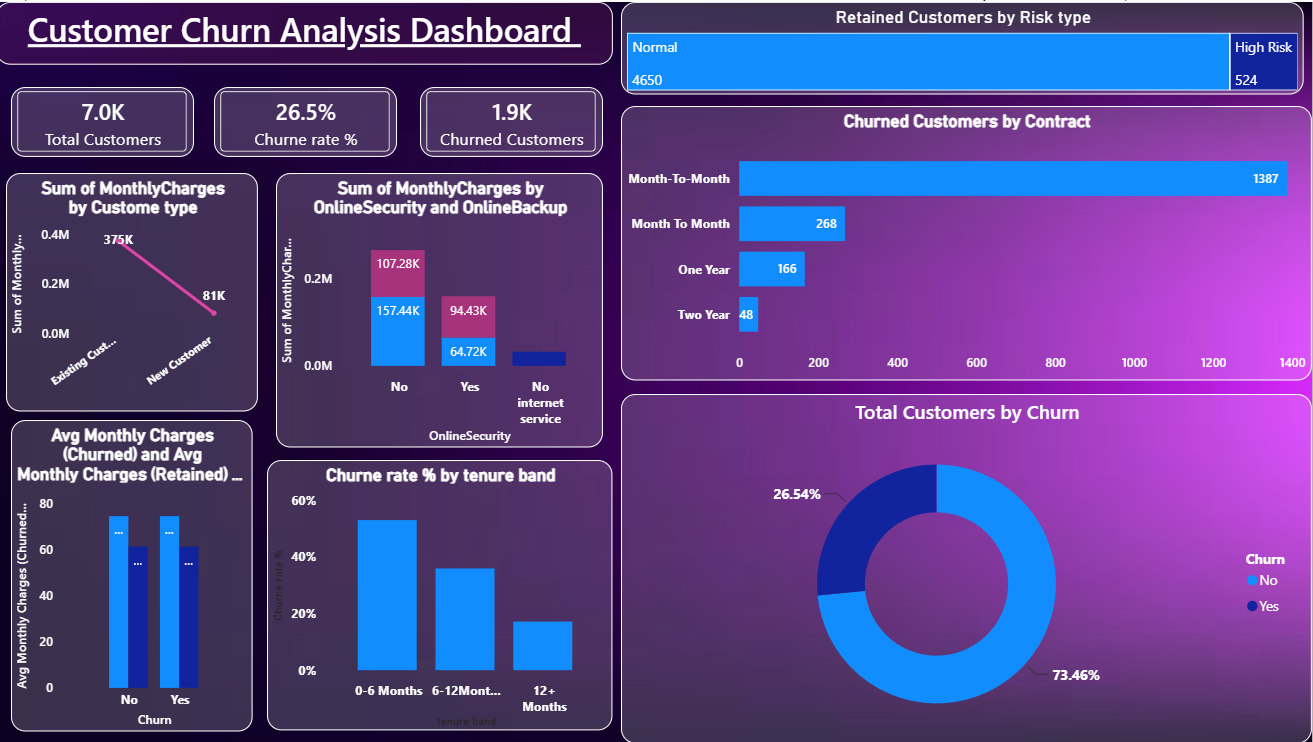

The page's visual inventory and layout, read from the dashboard file:
{"tool":"powerbi","page":{"name":"Summary Dashboard ","canvas":[1280,720],"ordinal":0},"visuals":[{"type":"textbox","box":[0,0,599.8,61.4],"z":0},{"type":"treemap","fields":{"Values":["Calculated Measures.Retained Customers"],"Group":["telco_churn_unclean.Risk type"]},"box":[608.3,0,664.3,89.9],"z":1000},{"type":"cardVisual","fields":{"Data":["Calculated Measures.Total Customers"]},"box":[14.8,82.5,177.7,67.7],"z":2000},{"type":"cardVisual","fields":{"Data":["Calculated Measures.Churne rate %"]},"box":[211.6,82.5,177.7,67.7],"z":3000},{"type":"cardVisual","fields":{"Data":["Calculated Measures.Churned Customers"]},"box":[412.6,82.5,177.7,67.7],"z":4000},{"type":"donutChart","fields":{"Category":["telco_churn_unclean.Churn"],"Y":["Calculated Measures.Total Customers"]},"box":[608.3,380.8,671.7,339.6],"z":5000},{"type":"barChart","fields":{"Category":["telco_churn_unclean.Contract"],"Y":["Calculated Measures.Churned Customers"]},"box":[608.3,101.6,671.7,266.6],"z":6000},{"type":"columnChart","fields":{"Category":["telco_churn_unclean.OnlineSecurity"],"Y":["Sum(telco_churn_unclean.MonthlyCharges)"],"Series":["telco_churn_unclean.OnlineBackup"]},"box":[271.9,166.1,318.4,266.6],"z":7000},{"type":"columnChart","fields":{"Y":["Calculated Measures.Churne rate %"],"Category":["telco_churn_unclean.tenure band"]},"box":[263.4,445.4,336.4,263.4],"z":8000},{"type":"clusteredColumnChart","fields":{"Y":["Calculated Measures.Avg Monthly Charges (Churned)","Calculated Measures.Avg Monthly Charges (Retained)"],"Category":["telco_churn_unclean.Churn"]},"box":[14.8,406.2,234.8,302.5],"z":9000},{"type":"lineChart","fields":{"Category":["telco_churn_unclean.Custome type"],"Y":["Sum(telco_churn_unclean.MonthlyCharges)"]},"box":[9.5,166.1,245.4,231.7],"z":10000}]}

Visuals, with their boxes in screenshot pixels (x1, y1, x2, y2), scaled from the page's 1280x720 canvas onto the 1313x742 screenshot:
textbox: detection(0, 0, 615, 63)
treemap - Calculated Measures.Retained Customers x telco_churn_unclean.Risk type: detection(624, 0, 1305, 93)
cardVisual - Calculated Measures.Total Customers: detection(15, 85, 197, 155)
cardVisual - Calculated Measures.Churne rate %: detection(217, 85, 399, 155)
cardVisual - Calculated Measures.Churned Customers: detection(423, 85, 606, 155)
donutChart - telco_churn_unclean.Churn x Calculated Measures.Total Customers: detection(624, 392, 1312, 741)
barChart - telco_churn_unclean.Contract x Calculated Measures.Churned Customers: detection(624, 105, 1312, 379)
columnChart - telco_churn_unclean.OnlineSecurity x Sum(telco_churn_unclean.MonthlyCharges): detection(279, 171, 606, 446)
columnChart - Calculated Measures.Churne rate % x telco_churn_unclean.tenure band: detection(270, 459, 615, 730)
clusteredColumnChart - Calculated Measures.Avg Monthly Charges (Churned) x Calculated Measures.Avg Monthly Charges (Retained): detection(15, 419, 256, 730)
lineChart - telco_churn_unclean.Custome type x Sum(telco_churn_unclean.MonthlyCharges): detection(10, 171, 261, 410)
